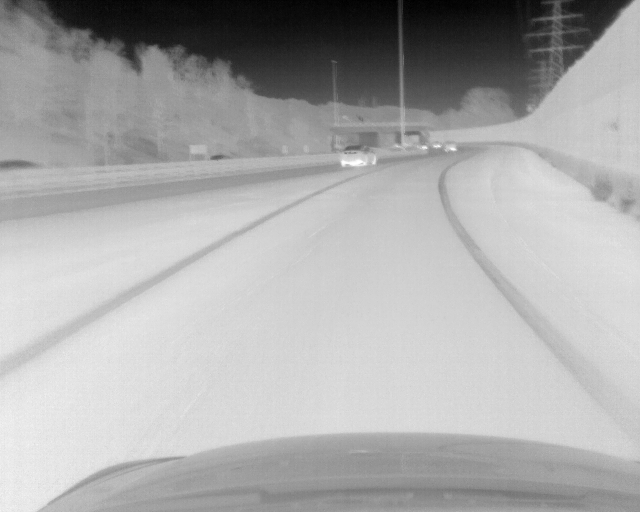car: (339, 142, 378, 166), (444, 142, 458, 151), (430, 140, 442, 149)
